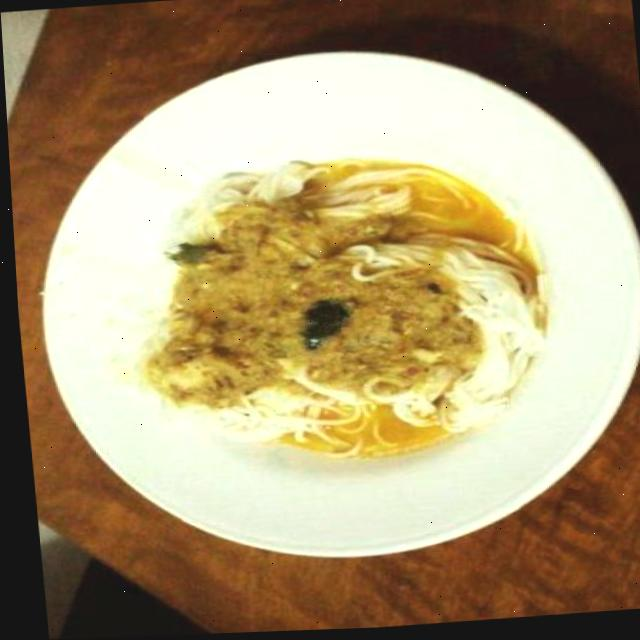面条主食: (1, 9, 640, 603)
